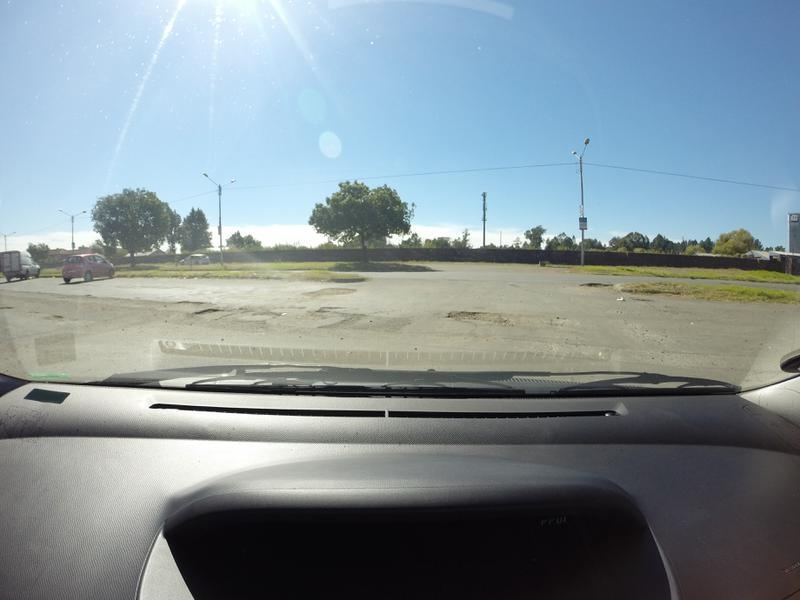pothole: (311, 305, 397, 337), (438, 299, 517, 328), (293, 282, 354, 301), (246, 302, 280, 331), (569, 276, 613, 296), (171, 291, 208, 311), (39, 307, 66, 329), (192, 304, 223, 321)
